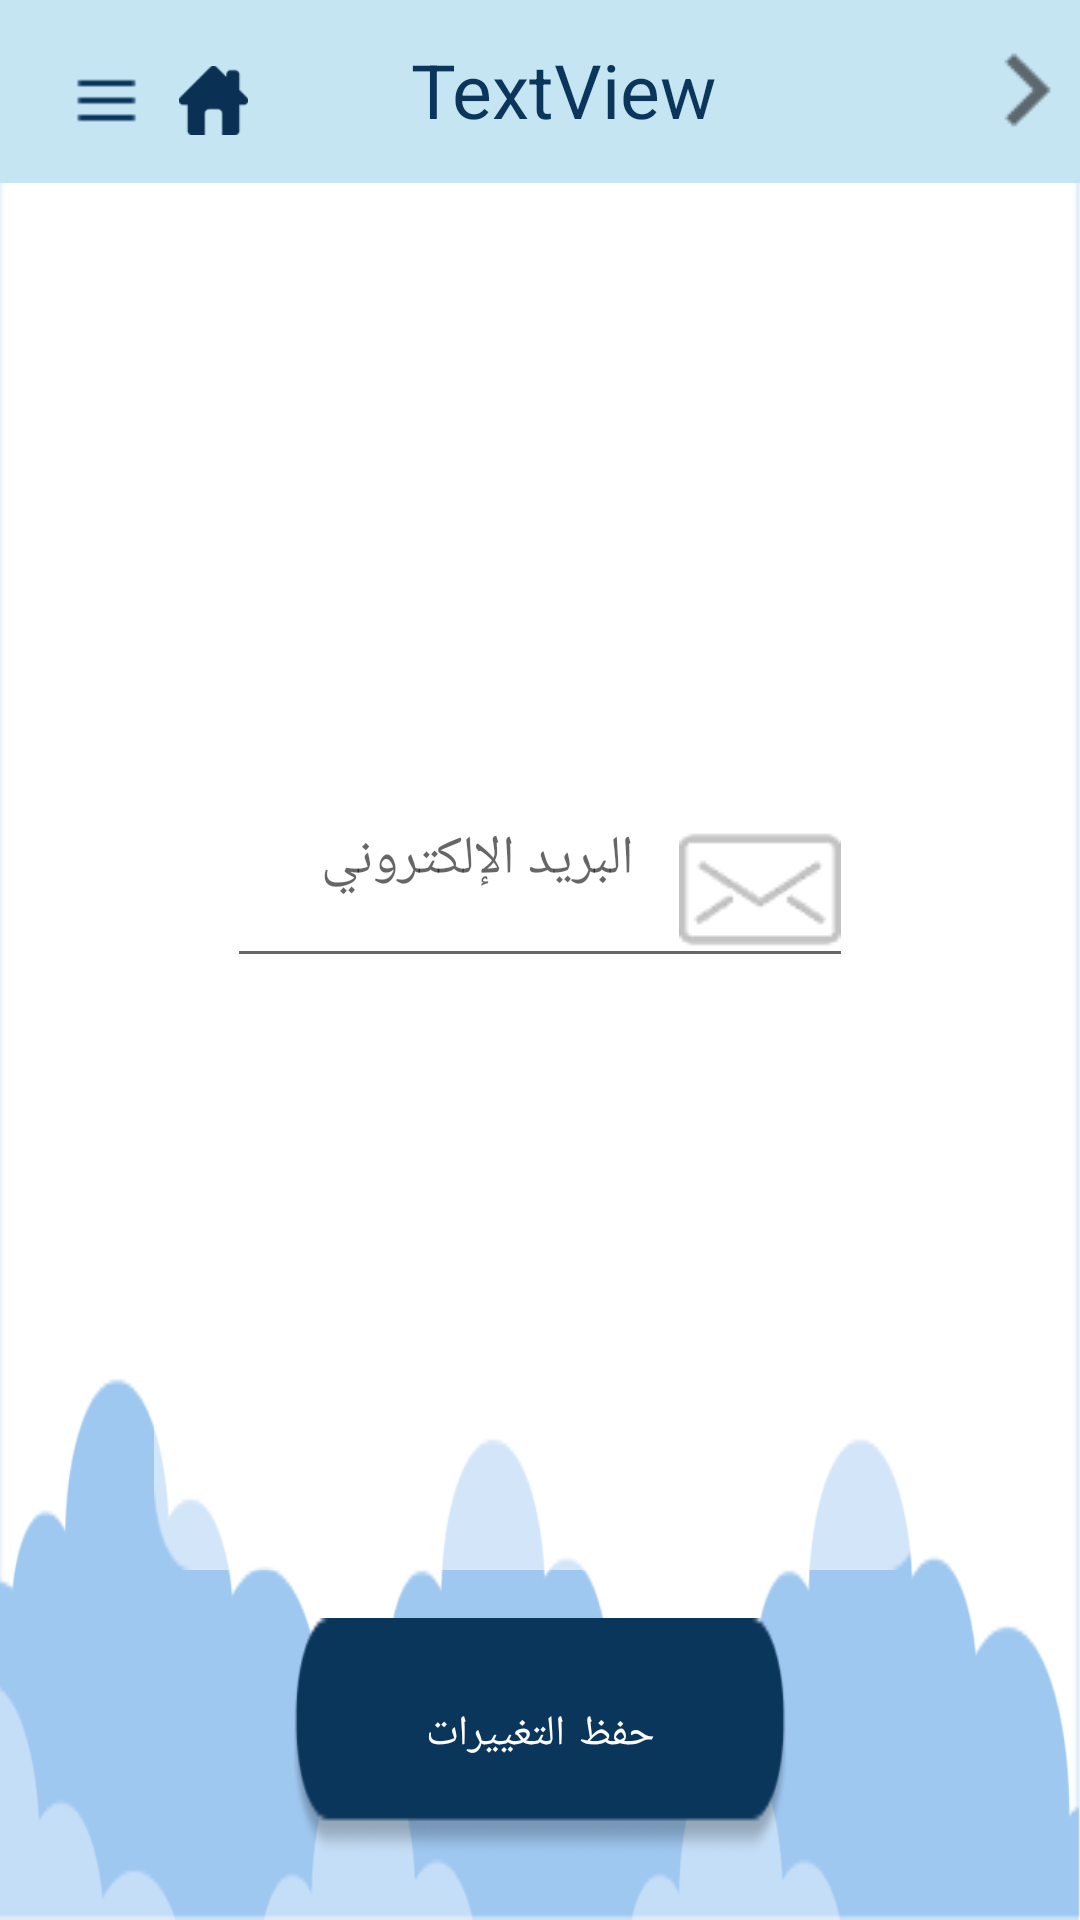

Named icons in this screenshot (1080px×1920px) and their bounding boxes, rect(x1, y1, x2, y2):
home: rect(179, 66, 248, 135)
menu: rect(77, 79, 136, 122)
